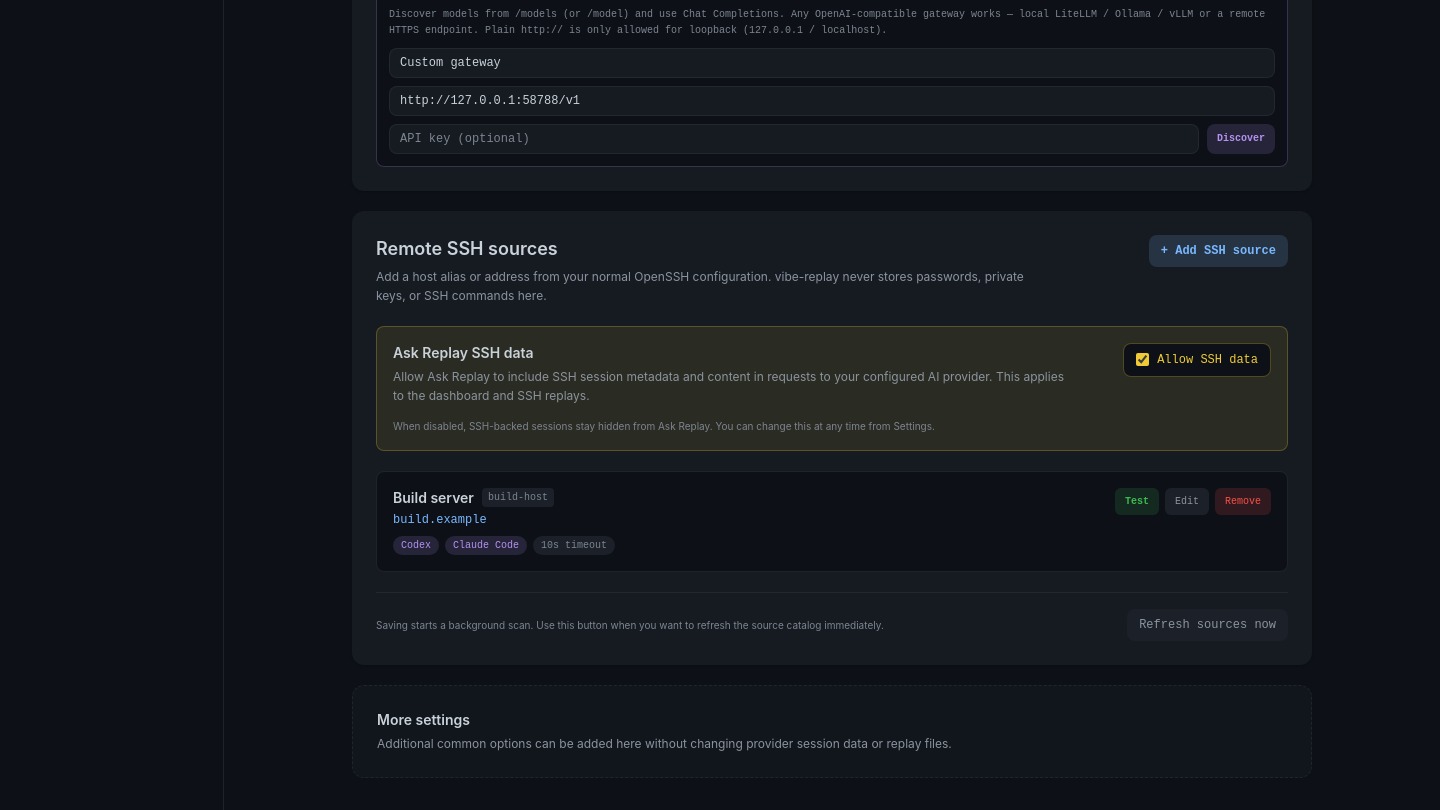
Scenario: SettingsPanel › tests an SSH source without exposing credentials
(page scrolled)
Click the button "Test" at (1137, 501), box [1115, 488, 1159, 515]
(page scrolled)
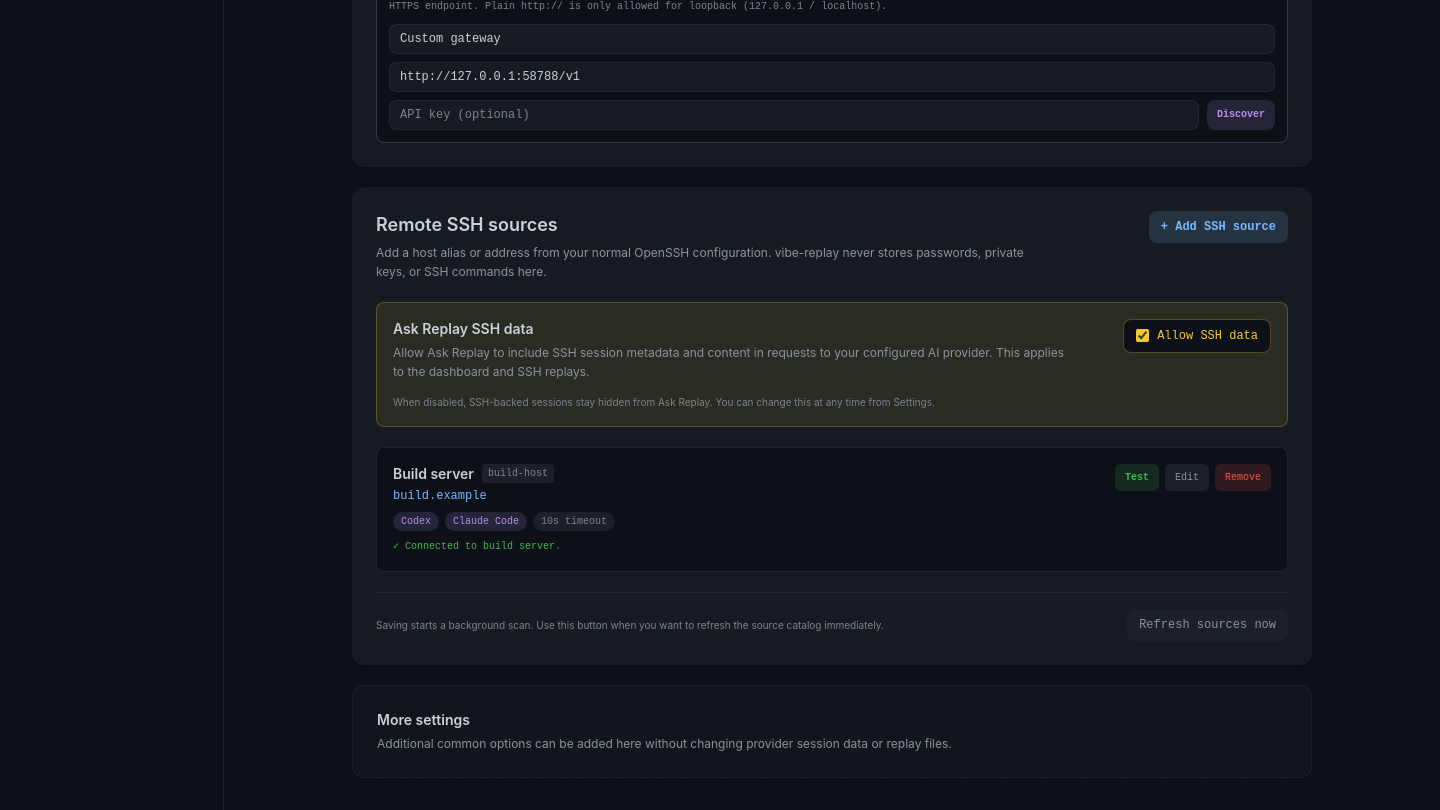
Expected: the text "✓ Connected to build server." is shown, [393, 541, 561, 552]
